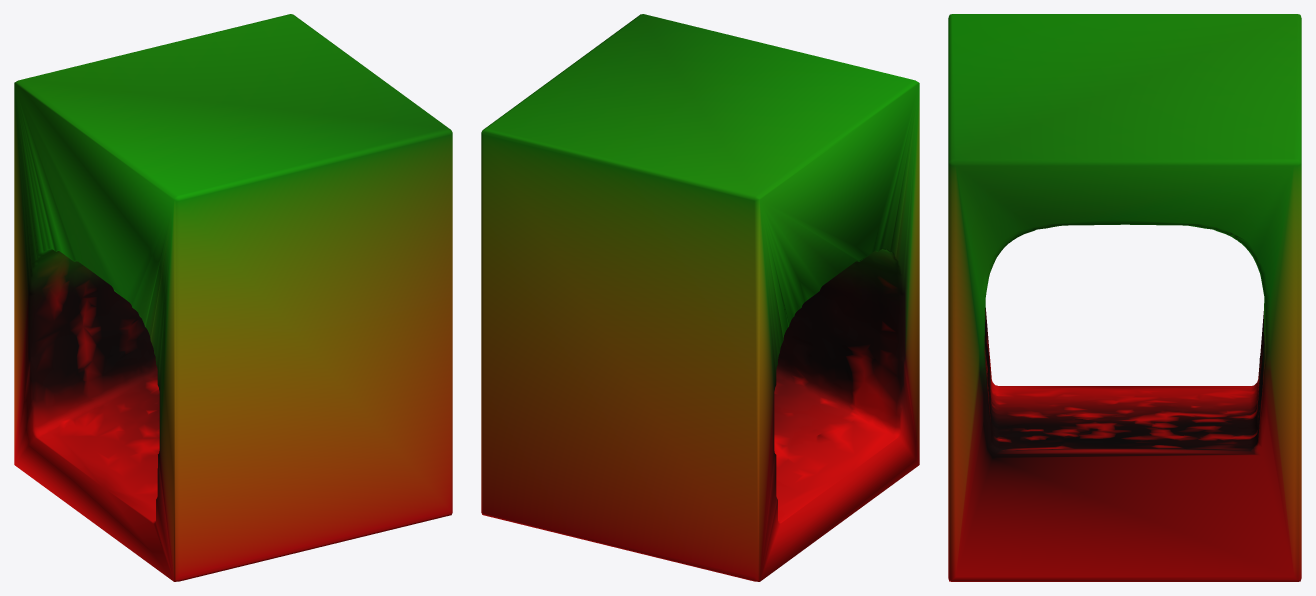
File: SM_Mine_Tunnel_Slope15.fbx
The picture shows the model from 3 angles, left to right: view 1: azimuth 30°, elevation 25°; view 2: azimuth 150°, elevation 25°; view 3: azimuth 270°, elevation 25°; orthographic projection. The views are drawn at different scales.
Parts seen in each view (by area): view 1: SM_Mine_Tunnel_Slope15; view 2: SM_Mine_Tunnel_Slope15; view 3: SM_Mine_Tunnel_Slope15.
Part boxes in pixels (x1=…): SM_Mine_Tunnel_Slope15: x1=14, y1=14, x2=452, y2=581; SM_Mine_Tunnel_Slope15: x1=481, y1=14, x2=919, y2=581; SM_Mine_Tunnel_Slope15: x1=948, y1=14, x2=1301, y2=581.
Bounding box in the file's own units: 4 × 5.27 × 4.
